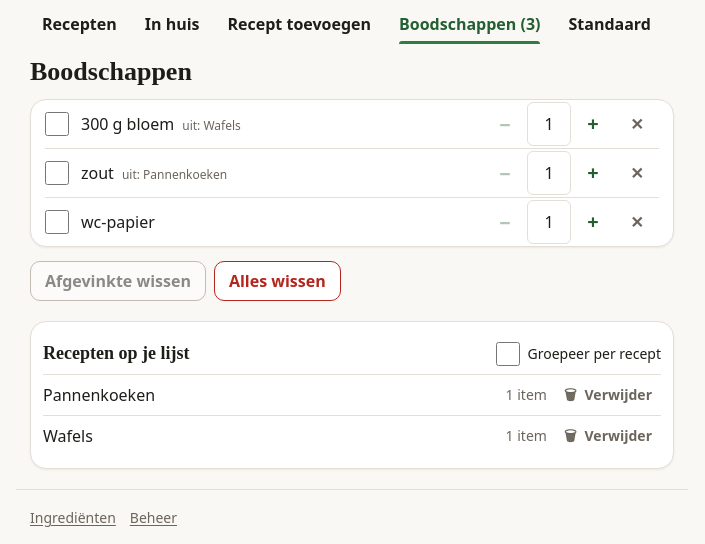
Test case: ShoppingListView › afvinken › vinkt af (doorgestreept), werkt het menu-aantal bij en slaat op de server op
Click the checkbox labelled "300 g bloem uit: Wafels". click: (57, 124)
box: [45, 112, 69, 136]
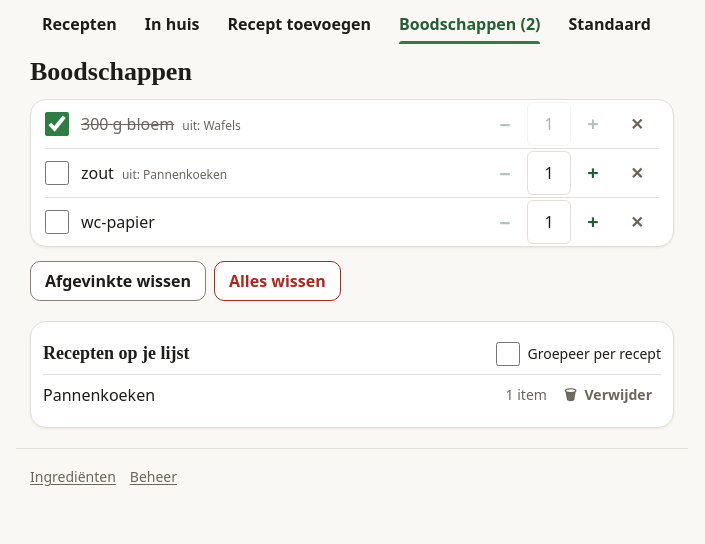
Result: the link with class "shopping-link" reads "Boodschappen (2)" at [399, 13, 540, 35]
